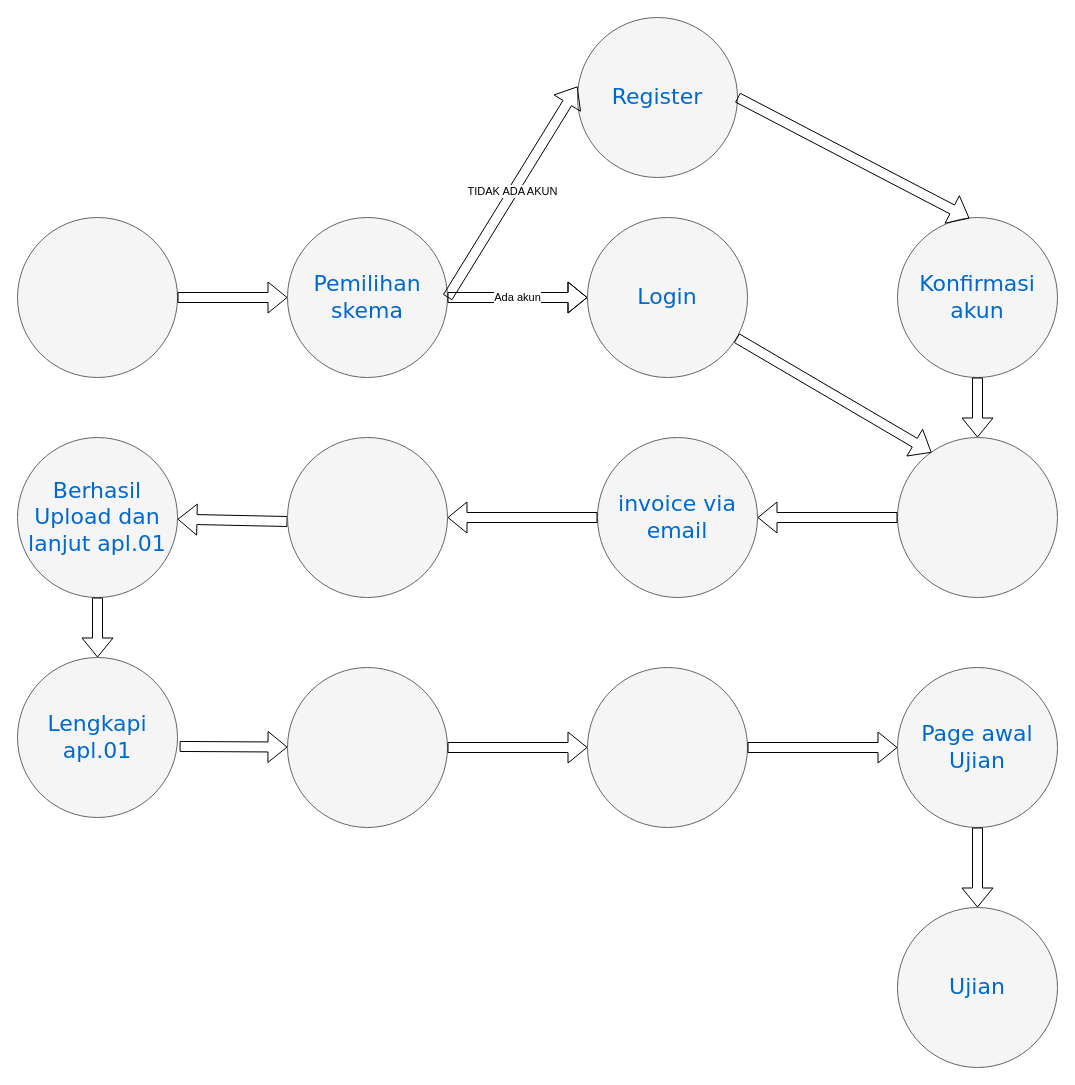
The diagram is 1075 pixels wide and 1085 high, and some of its shapes have lost their labels. The shapes that lost their labels are listed below. From the top down, each one's centre as x and y in pixels, then its label:
At point (97, 297): "Home".
At point (367, 517): "Upload bukti bayar".
At point (977, 517): "Detail informasii".
At point (367, 747): "Lengkapi apl.02".
At point (667, 747): "Status apl.01 & apl.02".
